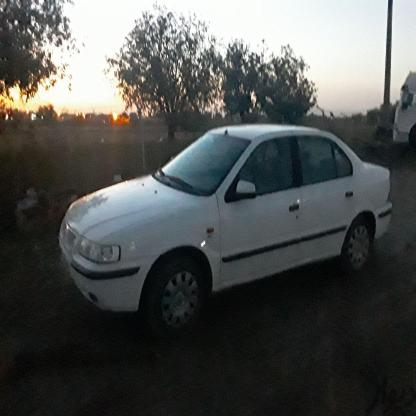Car: (44, 122, 393, 319)
Truck: (389, 64, 416, 170)
